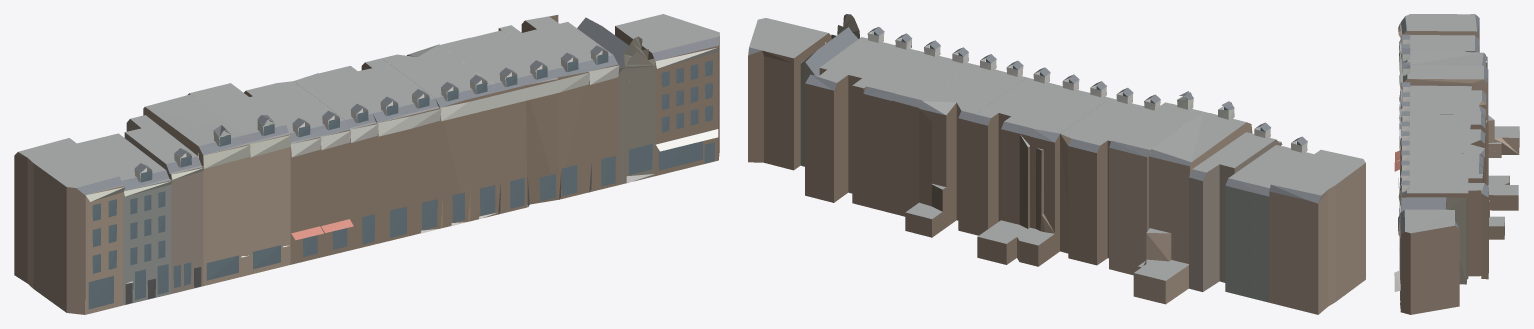
The model's file is chunk-face-kinker-2-30.lod2.glb.
3 renders of one model, left to right at view 1: azimuth 30°, elevation 25°; view 2: azimuth 150°, elevation 25°; view 3: azimuth 270°, elevation 25°, orthographic. The views are drawn at different scales.
Parts seen in each view (by area): view 1: lod2; view 2: lod2; view 3: lod2.
Part boxes in pixels (box(x1,y1,x2,y2)): lod2: box(14, 14, 719, 314); lod2: box(748, 14, 1365, 314); lod2: box(1394, 14, 1519, 314).
Bounding box in the file's own units: 86.05 × 18.94 × 21.08.
